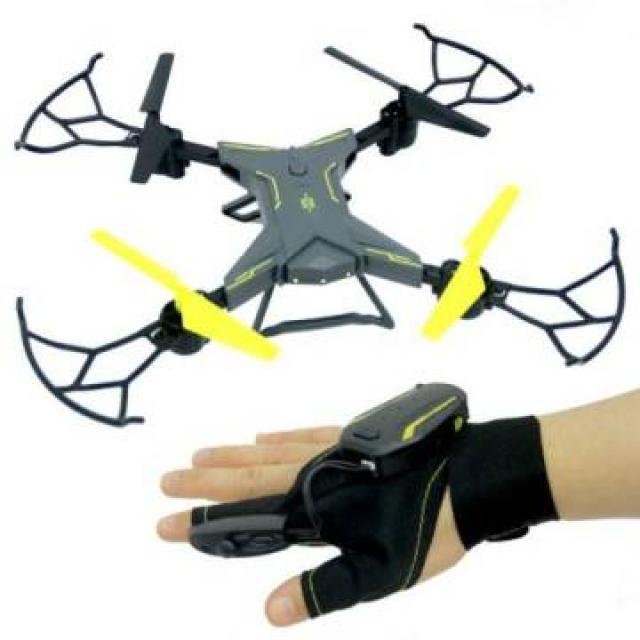drone: (12, 57, 628, 427)
